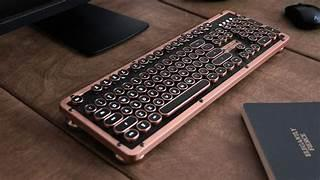keyboard: (58, 9, 289, 164)
